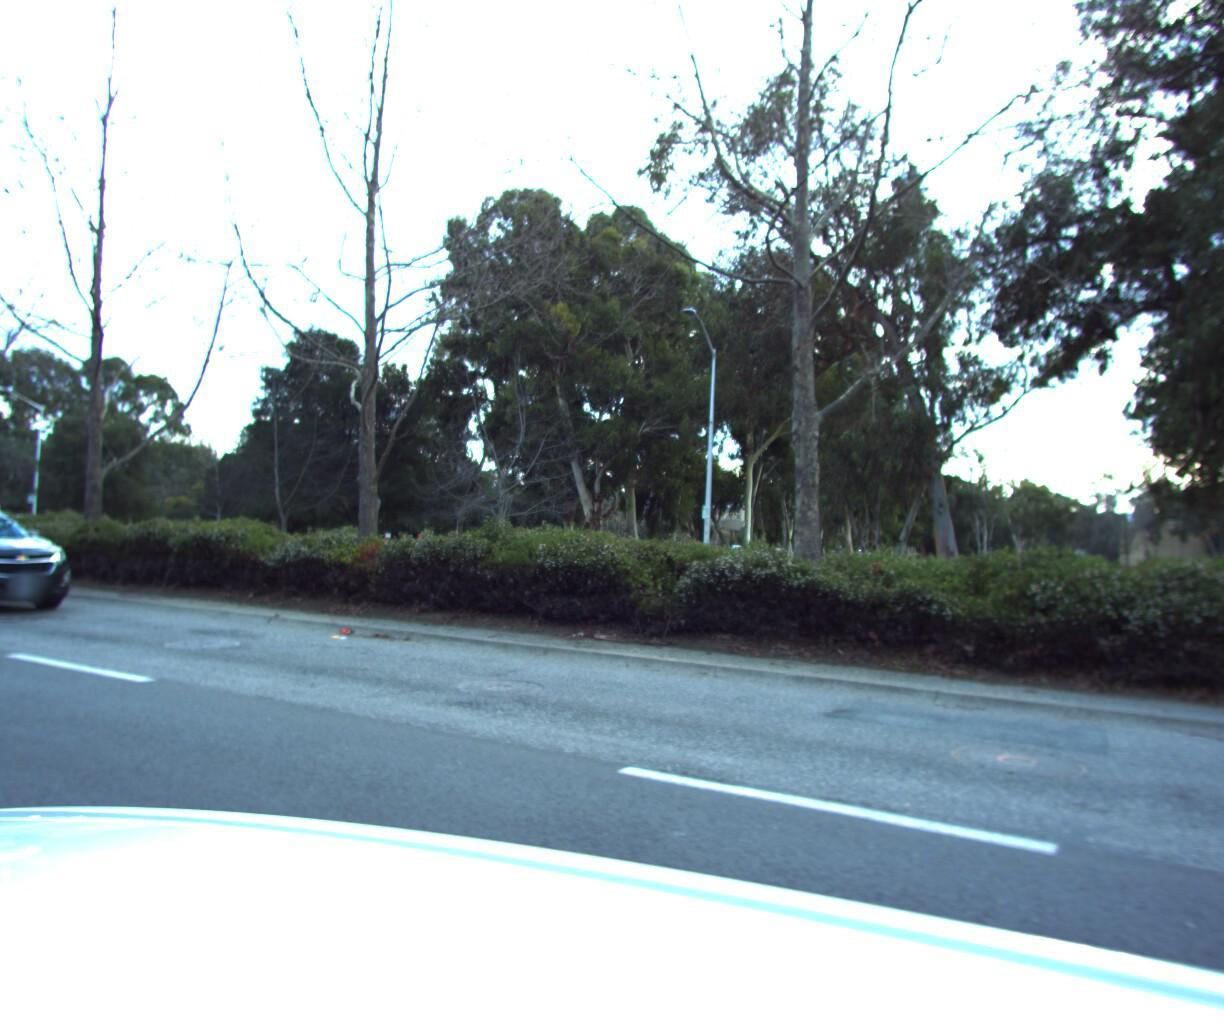car: (1162, 538, 1224, 710), (0, 495, 85, 617)
